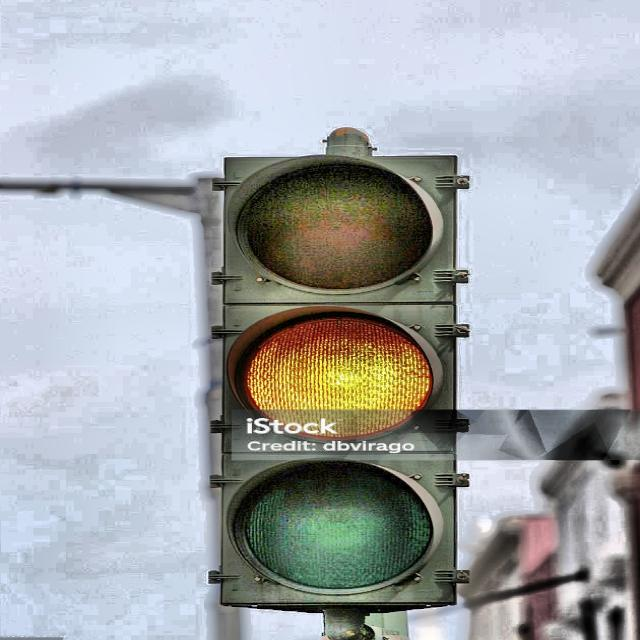yellow: (223, 154, 459, 608)
